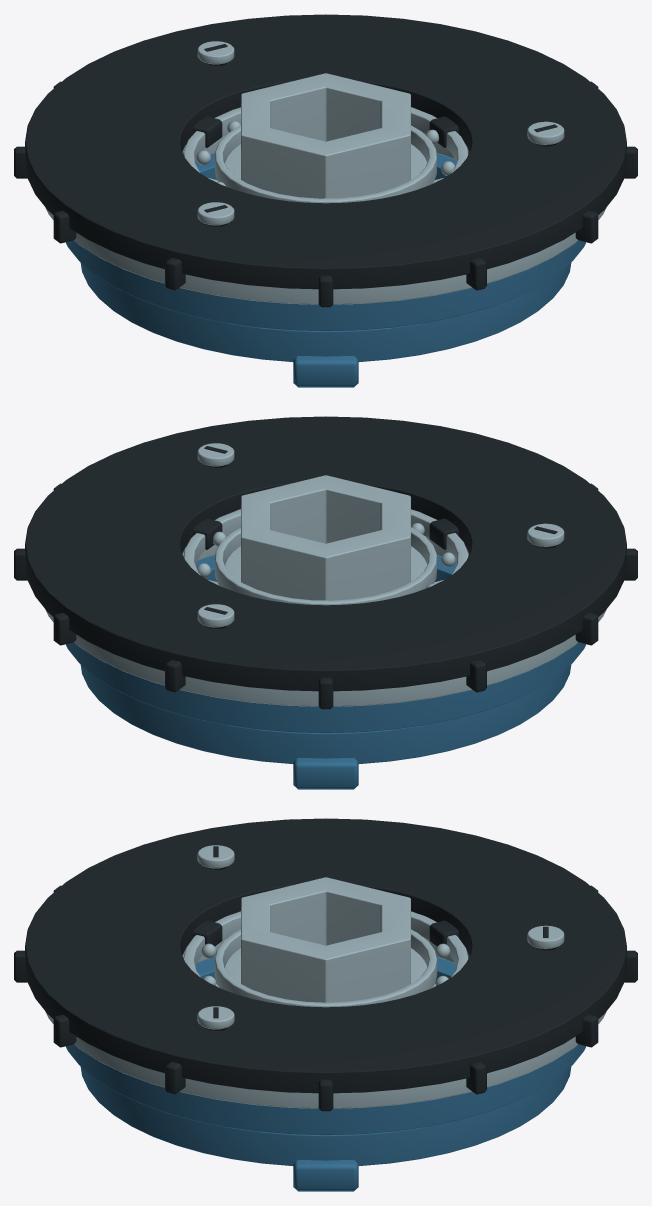
The picture shows the model from 3 angles, top to bottom: view 1: azimuth 30°, elevation 25°; view 2: azimuth 150°, elevation 25°; view 3: azimuth 270°, elevation 25°; orthographic projection.
Parts seen in each view (by area): view 1: Export_C01_stationary_housing__Launcher_Graphite_POM__fixed_, Export_C01_coupler_rotor__Launcher_Brushed_Steel__rotating_s, Export_C01_coupler_rotor__Performance_Blue_Anodized__rotatin, Export_C01_stationary_housing__Launcher_Brushed_Steel__fixed, Export_C01_stationary_housing__Performance_Blue_Anodized__fi, Export_C01_release_jaw_1__Performance_Blue_Anodized__release; view 2: Export_C01_stationary_housing__Launcher_Graphite_POM__fixed_, Export_C01_coupler_rotor__Launcher_Brushed_Steel__rotating_s, Export_C01_coupler_rotor__Performance_Blue_Anodized__rotatin, Export_C01_stationary_housing__Launcher_Brushed_Steel__fixed, Export_C01_stationary_housing__Performance_Blue_Anodized__fi, Export_C01_release_jaw_2__Performance_Blue_Anodized__release; view 3: Export_C01_stationary_housing__Launcher_Graphite_POM__fixed_, Export_C01_coupler_rotor__Launcher_Brushed_Steel__rotating_s, Export_C01_coupler_rotor__Performance_Blue_Anodized__rotatin, Export_C01_stationary_housing__Launcher_Brushed_Steel__fixed, Export_C01_stationary_housing__Performance_Blue_Anodized__fi, Export_C01_release_jaw_0__Performance_Blue_Anodized__release.
Part boxes in pixels (x1,y1,x2,y2): Export_C01_stationary_housing__Launcher_Graphite_POM__fixed_: (14,14,637,307); Export_C01_coupler_rotor__Launcher_Brushed_Steel__rotating_s: (208,73,443,198); Export_C01_coupler_rotor__Performance_Blue_Anodized__rotatin: (80,153,571,361); Export_C01_stationary_housing__Launcher_Brushed_Steel__fixed: (45,41,606,304); Export_C01_stationary_housing__Performance_Blue_Anodized__fi: (66,240,585,331); Export_C01_release_jaw_1__Performance_Blue_Anodized__release: (293,355,358,387); Export_C01_stationary_housing__Launcher_Graphite_POM__fixed_: (14,416,637,709); Export_C01_coupler_rotor__Launcher_Brushed_Steel__rotating_s: (208,475,443,600); Export_C01_coupler_rotor__Performance_Blue_Anodized__rotatin: (80,555,571,763); Export_C01_stationary_housing__Launcher_Brushed_Steel__fixed: (45,443,606,706); Export_C01_stationary_housing__Performance_Blue_Anodized__fi: (66,642,585,733); Export_C01_release_jaw_2__Performance_Blue_Anodized__release: (293,757,358,789); Export_C01_stationary_housing__Launcher_Graphite_POM__fixed_: (14,818,637,1111); Export_C01_coupler_rotor__Launcher_Brushed_Steel__rotating_s: (216,877,435,1002); Export_C01_coupler_rotor__Performance_Blue_Anodized__rotatin: (80,957,571,1165); Export_C01_stationary_housing__Launcher_Brushed_Steel__fixed: (45,845,606,1108); Export_C01_stationary_housing__Performance_Blue_Anodized__fi: (66,1044,585,1135); Export_C01_release_jaw_0__Performance_Blue_Anodized__release: (293,1159,358,1191).
Size of the model in its own units: 0.908 by 0.2675 by 0.908.
